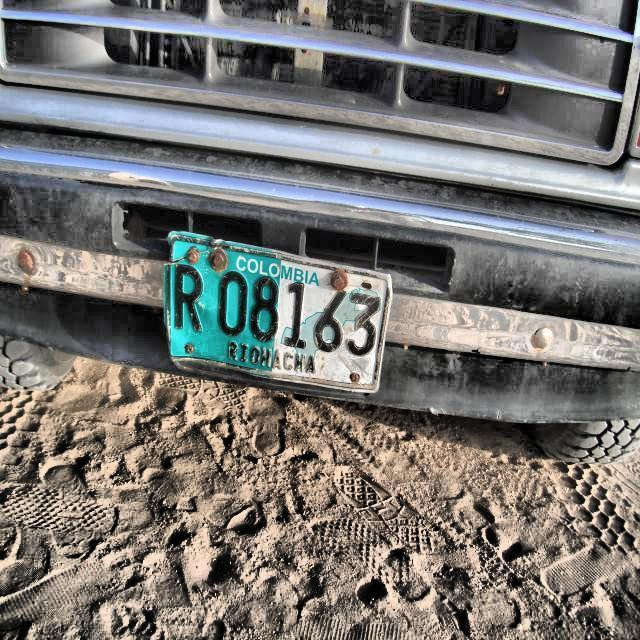plate: (172, 236, 390, 389)
